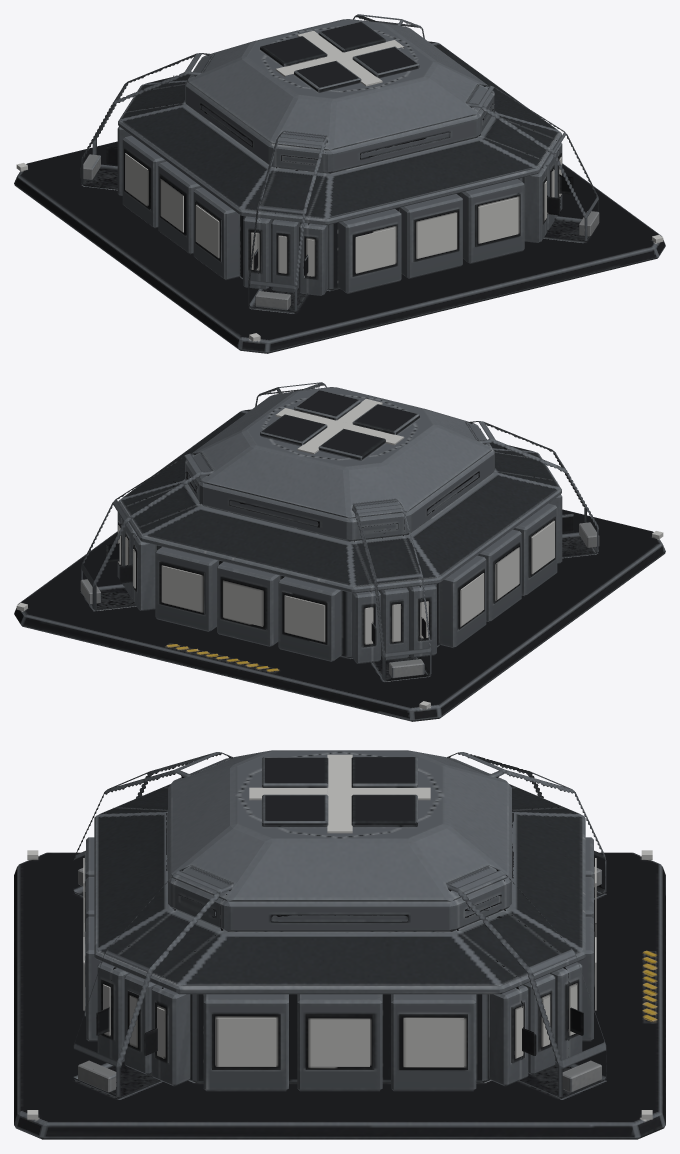
Rendered from chs_advaccumulator.fbx.
3 views of the same model, one above another, from view 1: azimuth 30°, elevation 25°; view 2: azimuth 150°, elevation 25°; view 3: azimuth 270°, elevation 25° (orthographic). The views are drawn at different scales.
Visible parts, largest first — view 1: base_bar, cells_glow_power_bar, cells_bar; view 2: base_bar, cells_glow_power_bar, cells_bar; view 3: base_bar, cells_glow_power_bar, cells_bar.
Boxes of the visible parts, bbox=[...] form: base_bar: bbox=[14, 14, 665, 353]; cells_glow_power_bar: bbox=[125, 31, 561, 276]; cells_bar: bbox=[260, 21, 419, 92]; base_bar: bbox=[14, 382, 665, 721]; cells_glow_power_bar: bbox=[118, 399, 554, 644]; cells_bar: bbox=[260, 389, 419, 460]; base_bar: bbox=[14, 750, 665, 1139]; cells_glow_power_bar: bbox=[83, 754, 596, 1066]; cells_bar: bbox=[262, 757, 417, 826].
Size of the model in its own units: 2334 by 1043 by 2334.
2 materials, 2 textured.
